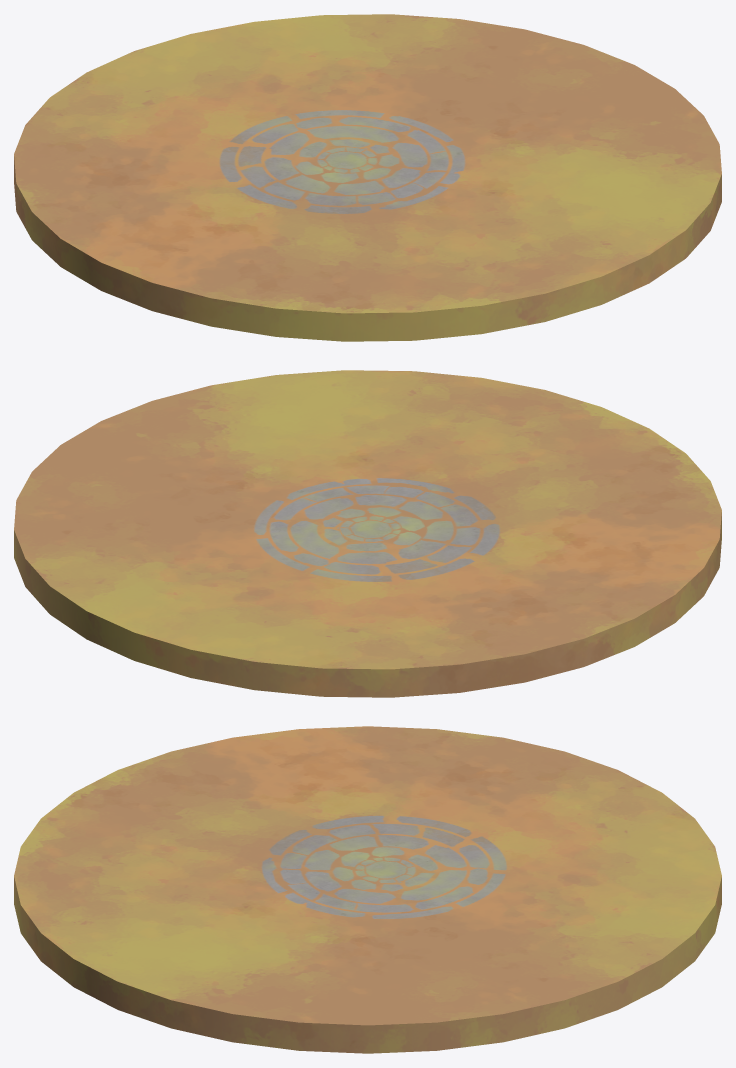
Rendered from Arene.fbx.
3 renders of one model, top to bottom at view 1: azimuth 30°, elevation 25°; view 2: azimuth 150°, elevation 25°; view 3: azimuth 270°, elevation 25°, orthographic.
Parts seen in each view (by area): view 1: Circle.002; view 2: Circle.002; view 3: Circle.002.
Part boxes in pixels (bbox=[...]): Circle.002: bbox=[14, 14, 721, 341]; Circle.002: bbox=[14, 370, 721, 697]; Circle.002: bbox=[14, 726, 721, 1053].
Size of the model in its own units: 5775 by 254 by 5775.
